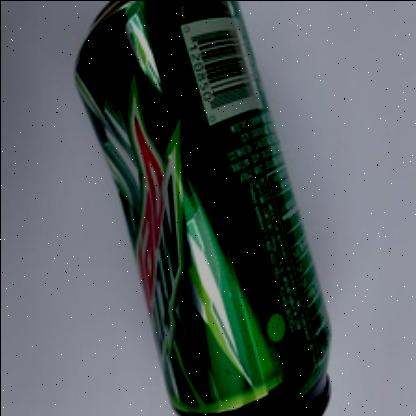Can: (73, 0, 331, 416)
